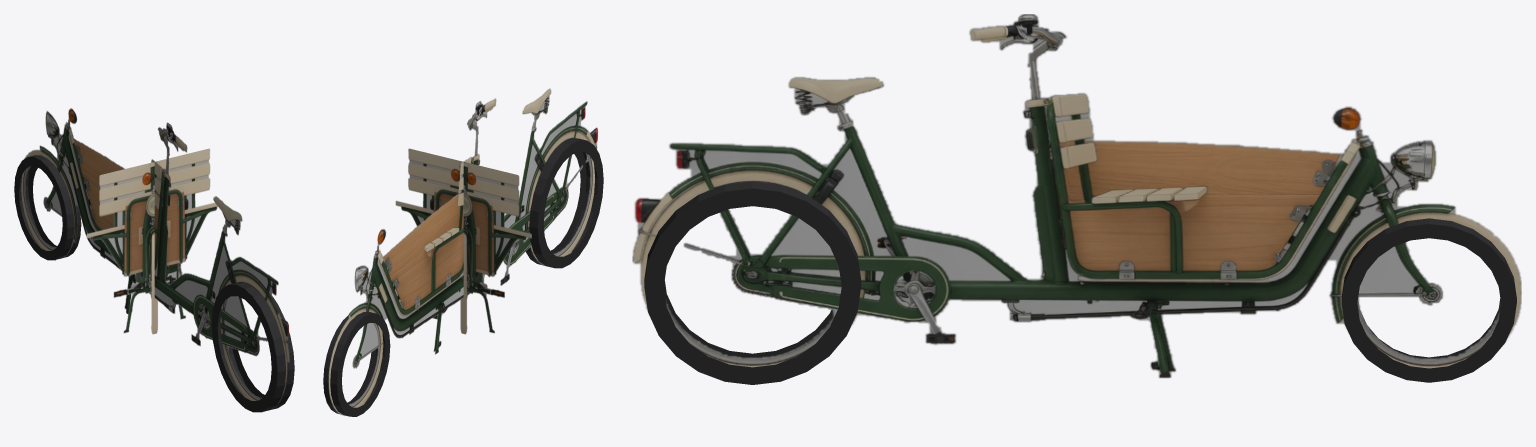
File: cargo_bike.glb
3 views of the same model, side by side, from view 1: azimuth 30°, elevation 25°; view 2: azimuth 150°, elevation 25°; view 3: azimuth 270°, elevation 25° (orthographic). The views are drawn at different scales.
Parts seen in each view (by area): view 1: cargo_bike, wheel_BC, wheel_FC; view 2: cargo_bike, wheel_BC, wheel_FC; view 3: cargo_bike, wheel_BC, wheel_FC.
Boxes of the visible parts, left/top/right/bottom form: cargo_bike: left=21, top=108, right=289, bottom=412; wheel_BC: left=211, top=282, right=294, bottom=412; wheel_FC: left=14, top=155, right=81, bottom=260; cargo_bike: left=328, top=88, right=597, bottom=415; wheel_BC: left=525, top=138, right=603, bottom=268; wheel_FC: left=323, top=312, right=390, bottom=416; cargo_bike: left=632, top=14, right=1521, bottom=378; wheel_BC: left=644, top=181, right=861, bottom=384; wheel_FC: left=1341, top=218, right=1516, bottom=382.
Bounding box in the file's own units: 0.6985 × 1.08 × 2.4.
2 materials, 1 textured.
